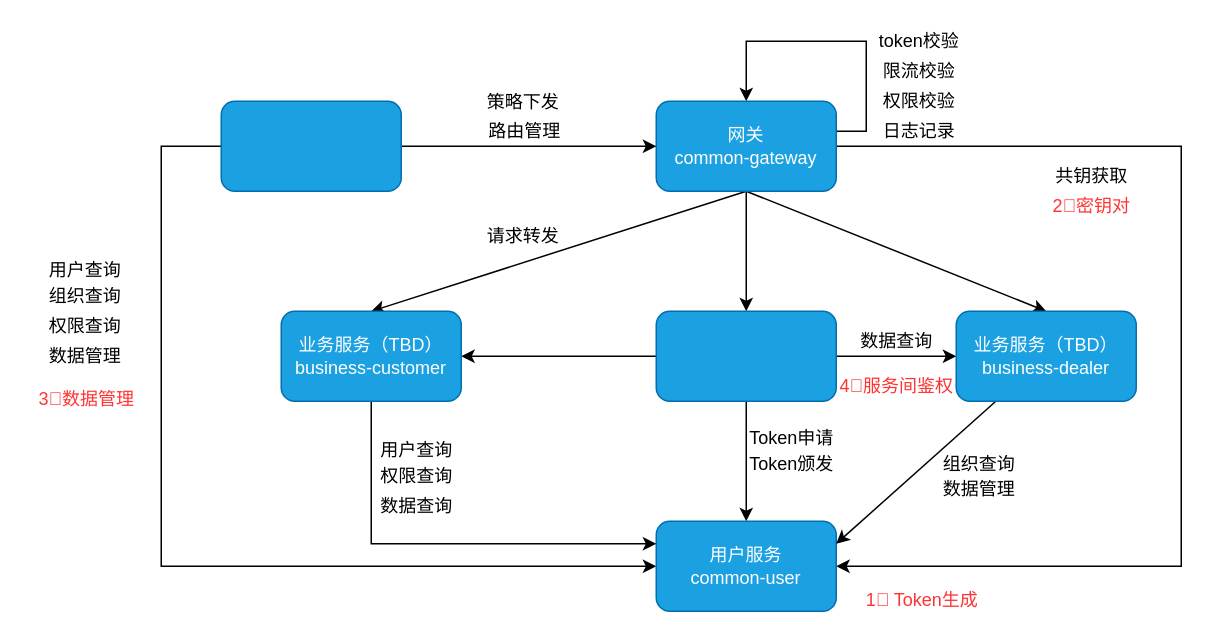
The diagram is 1220 pixels wide and 641 high, and some of its shapes have lost their labels. Here are the shapes that lost their labels. From the top down, the box of each, then its label:
(220, 100, 401, 191): 运营平台 common-operation
(655, 310, 836, 401): 业务服务（TBD） business-sales
